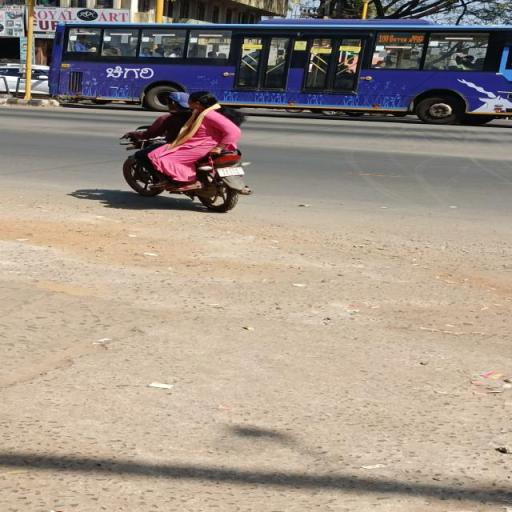bike: (115, 88, 270, 214)
withouthelmet: (192, 92, 214, 110), (168, 91, 188, 110)
